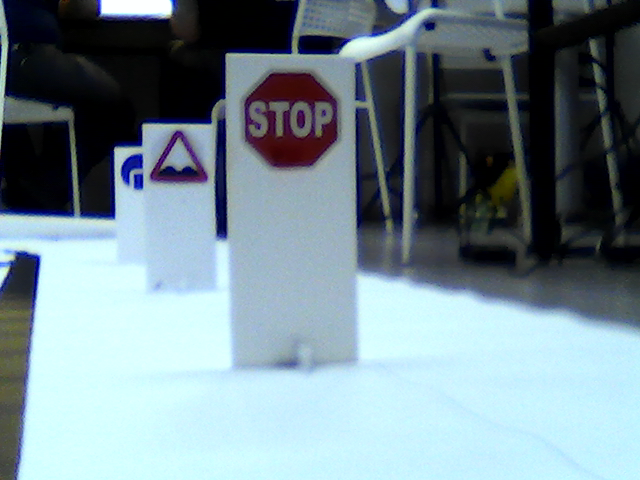Nerov: (151, 126, 210, 183)
Stop: (243, 68, 345, 176)
